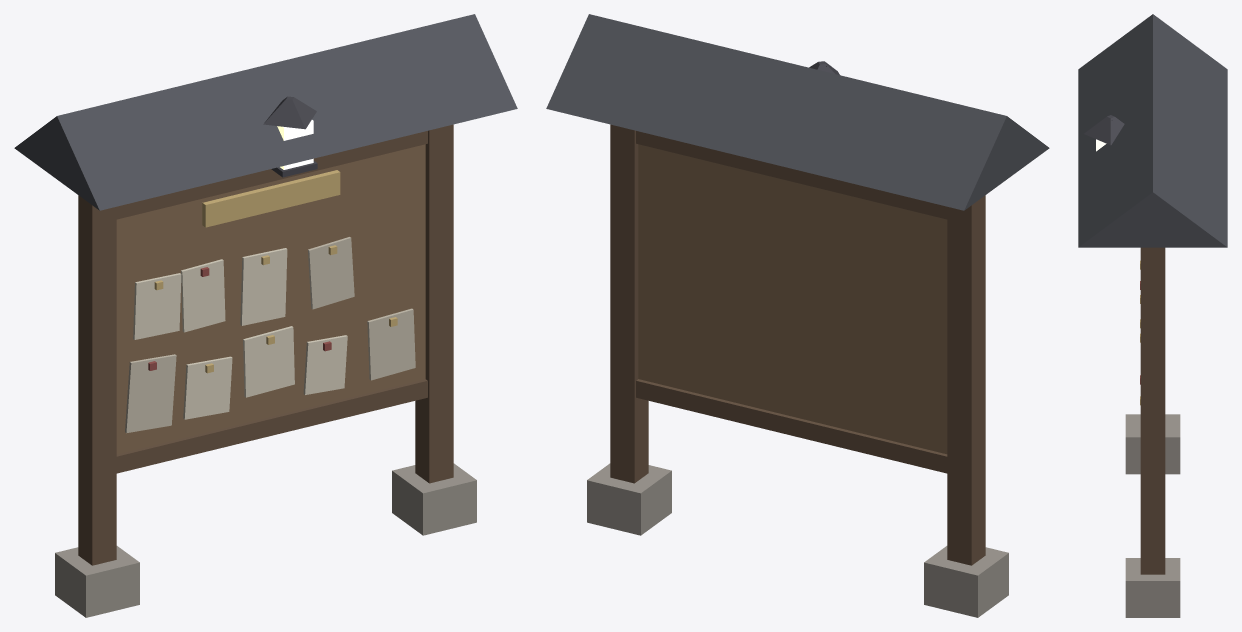
Rendered from notice_board.glb.
3 views of the same model, side by side, from view 1: azimuth 30°, elevation 25°; view 2: azimuth 150°, elevation 25°; view 3: azimuth 270°, elevation 25° (orthographic). The views are drawn at different scales.
Visible parts, largest first — view 1: notice_board; view 2: notice_board; view 3: notice_board.
Boxes of the visible parts, box(x1,y1,x2,y2) form: notice_board: box(14, 14, 517, 617); notice_board: box(546, 14, 1049, 617); notice_board: box(1078, 14, 1227, 617).
Bounding box in the file's own units: 3.1 × 3.5 × 1.1.
